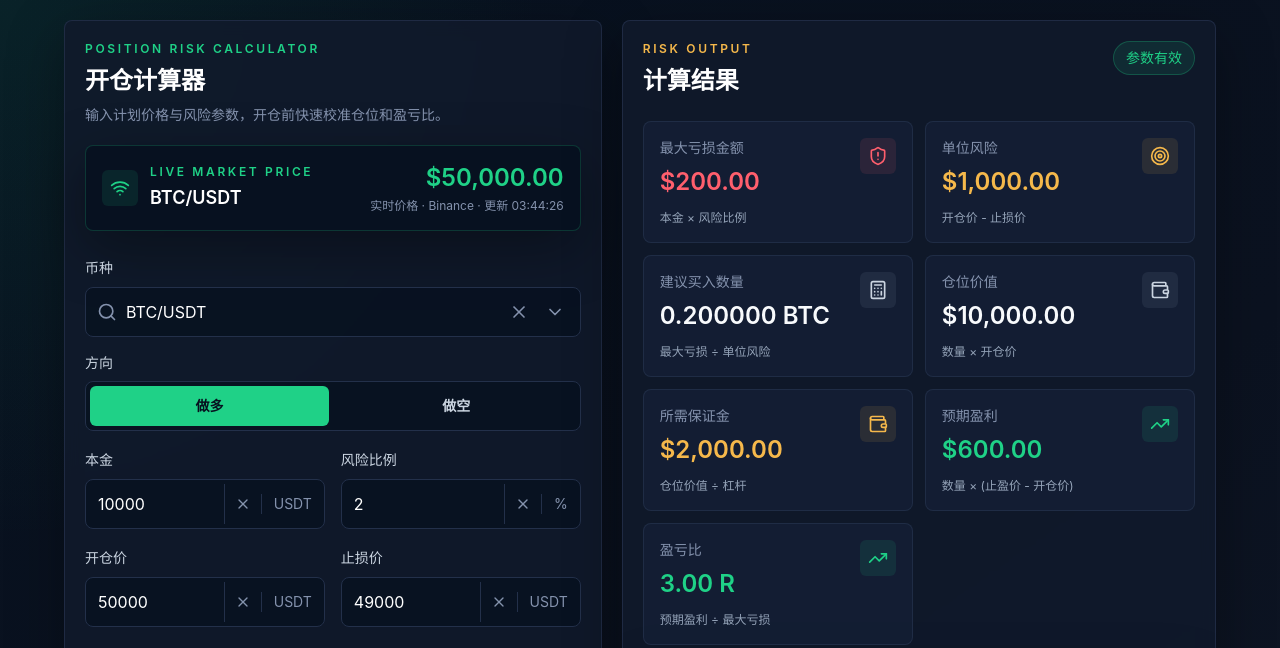
Test: PositionCalculator › lets users search and select a single crypto symbol from the dropdown
expect the text "$50,000.00" is shown: met, box [426,163,564,192]
Replace the text in the dropdown labelled "币种" with "sol" at point(333, 312), box [85,287,581,337]
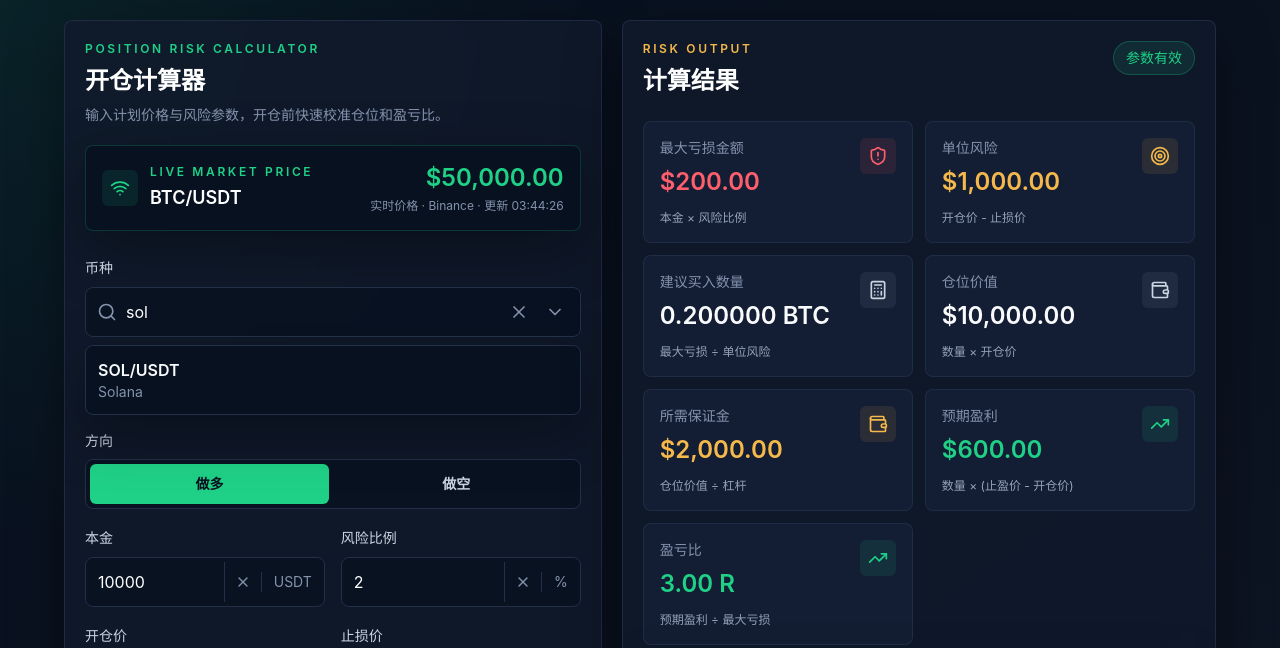
Click the option "SOL/USDT Solana".
click(139, 370)  # box [86,346,580,414]
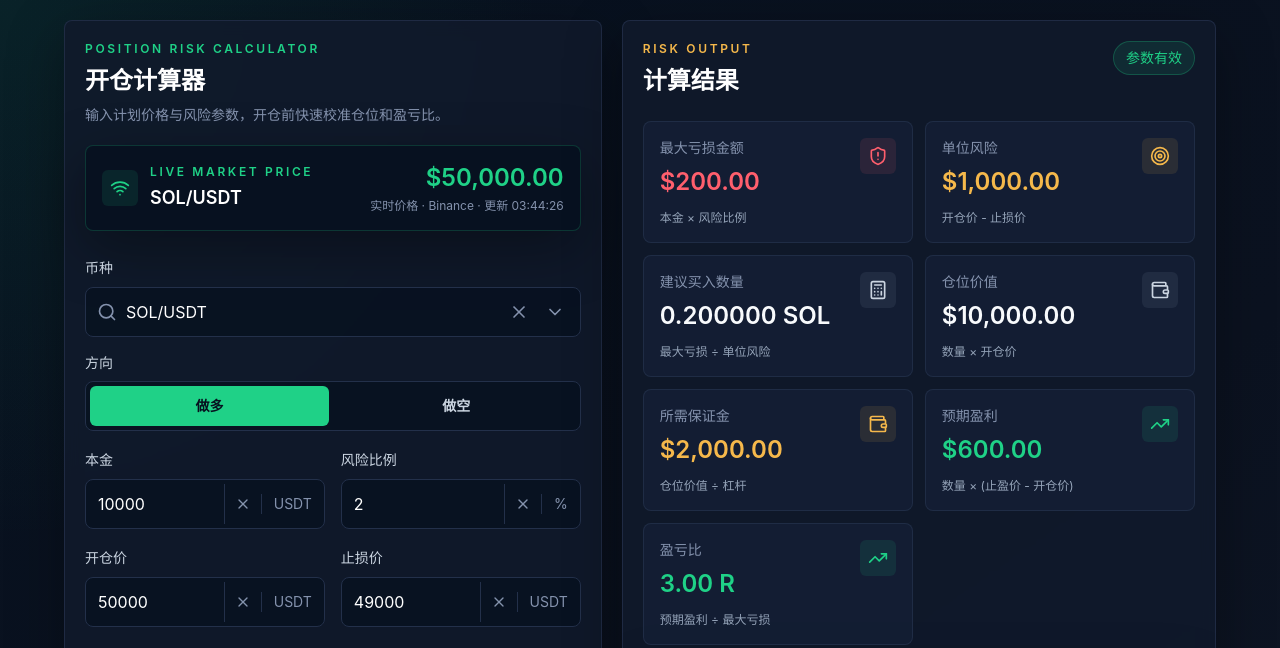
expect the dropdown labelled "币种" holds "SOL/USDT": met, box [85,287,581,337]
expect the text "0.200000 SOL" is shown: met, box [660,300,830,332]
